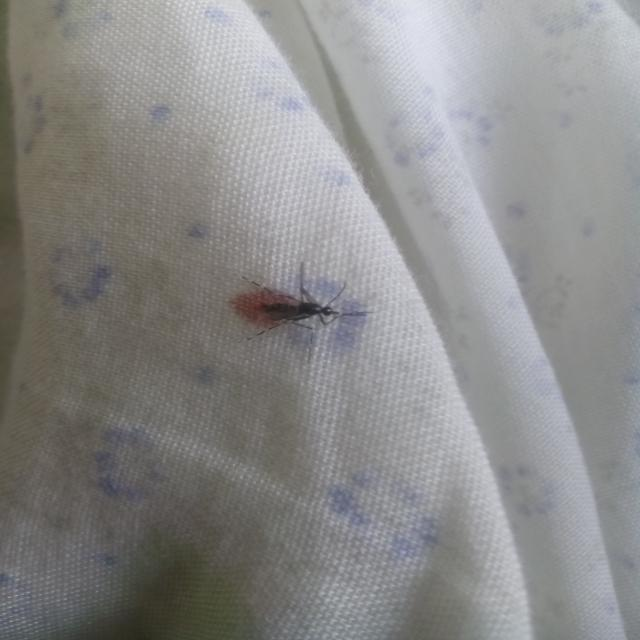albopictus: (223, 254, 374, 364)
